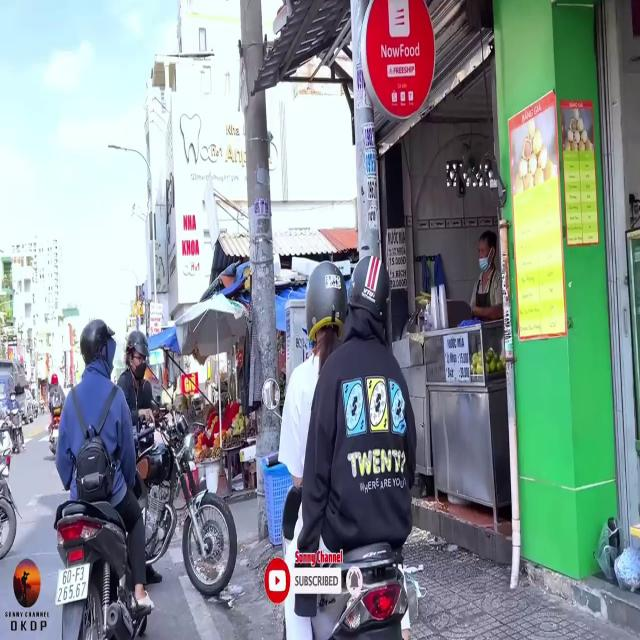bien_trang: (54, 563, 92, 608)
